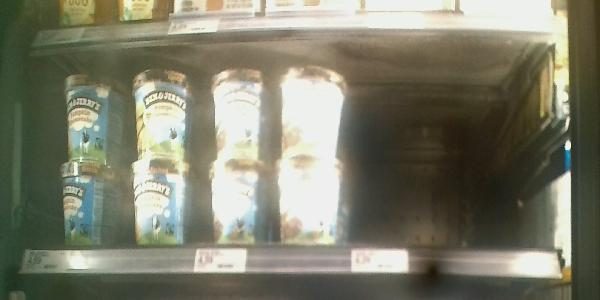icecream1: (277, 68, 350, 158), (278, 159, 347, 246), (207, 67, 269, 159), (132, 67, 192, 160), (131, 159, 193, 245), (207, 161, 270, 244), (61, 69, 111, 160), (60, 160, 109, 246)
